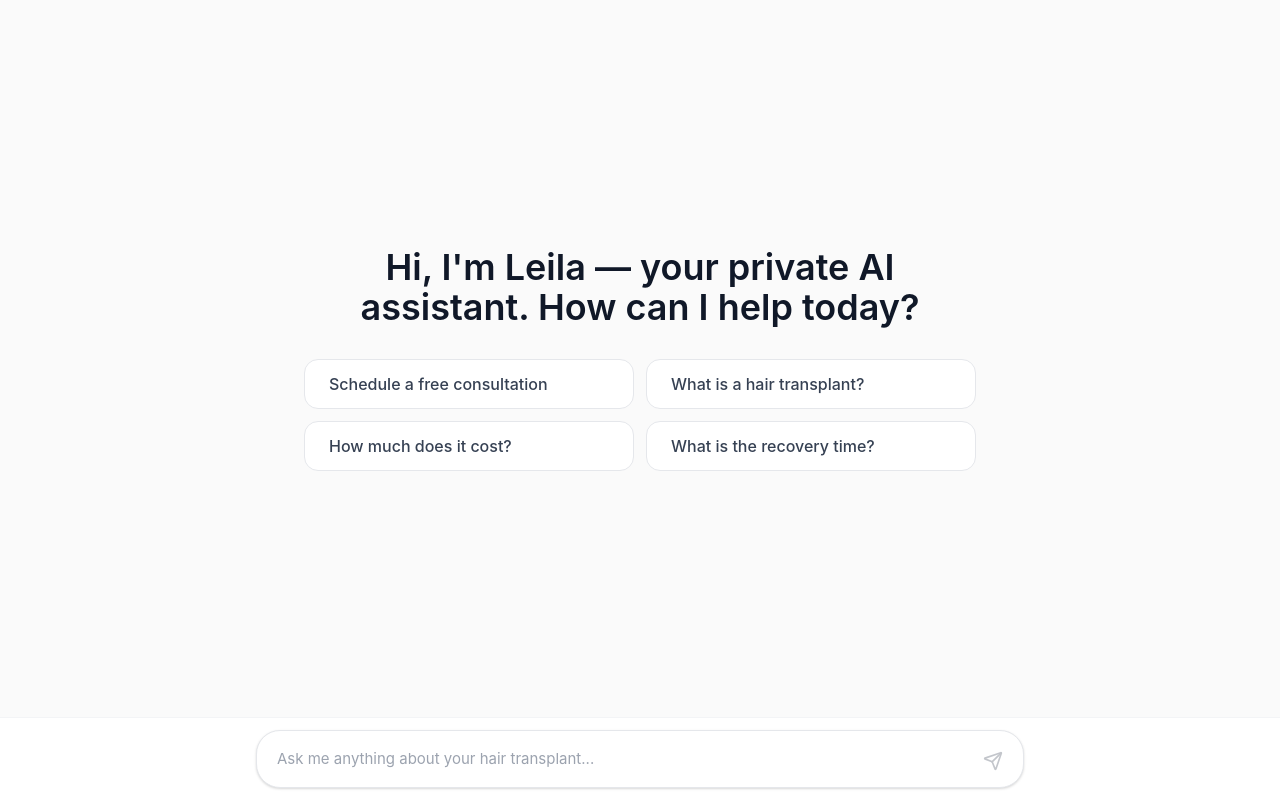
it: LangchainChat › error handling › shows error message when fetch fails
Click the button "What is a hair transplant?": (811, 384) [646, 358, 976, 408]
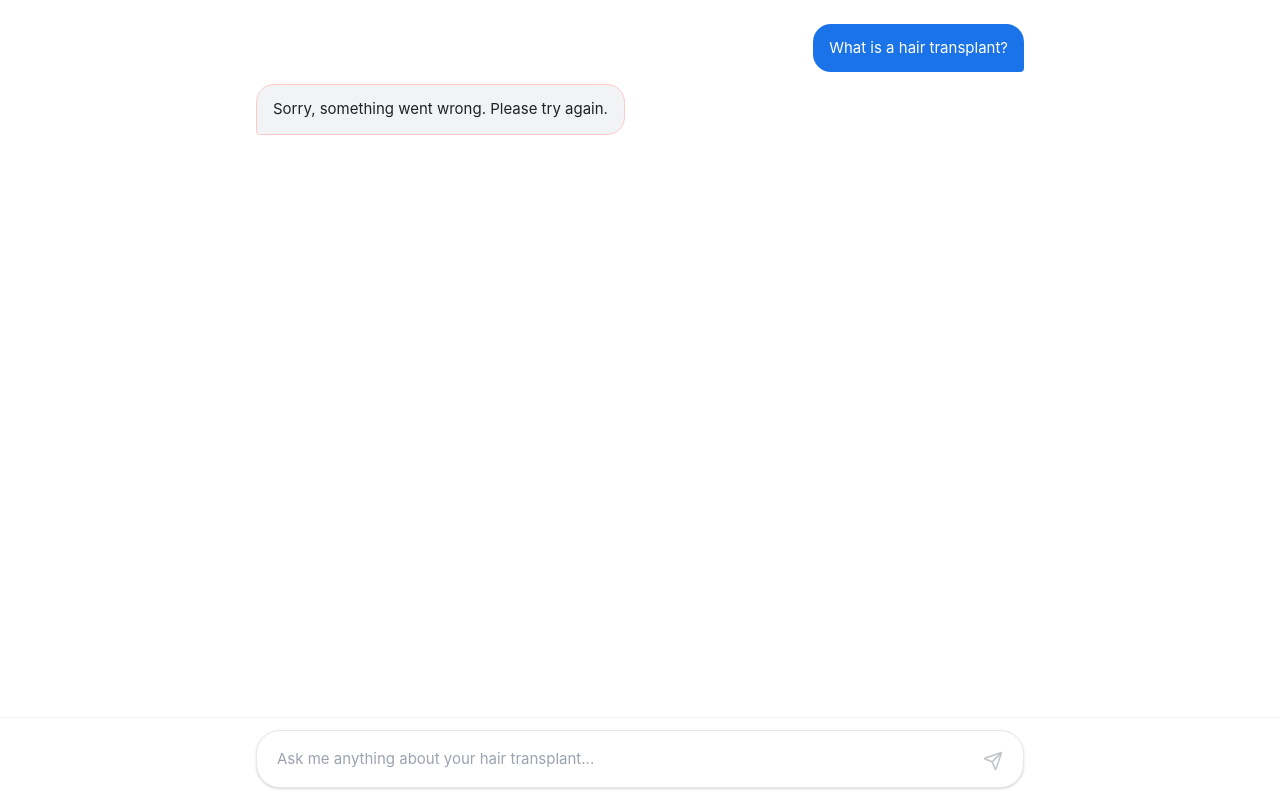
Expected: the text "Sorry, something went wrong. Please try again." is shown, [273, 97, 608, 122]
